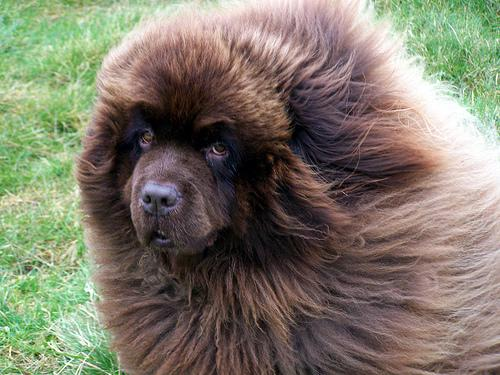dog-newfoundland: (80, 39, 295, 254)
